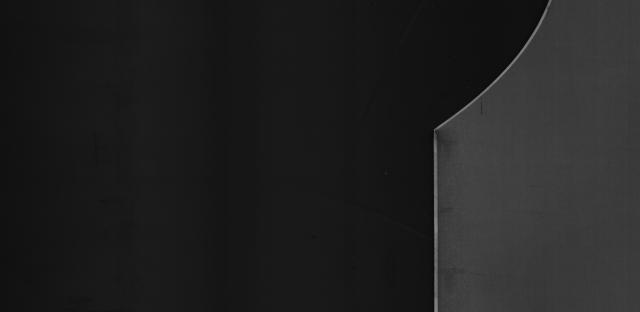crescent_gap: (393, 0, 573, 146)
